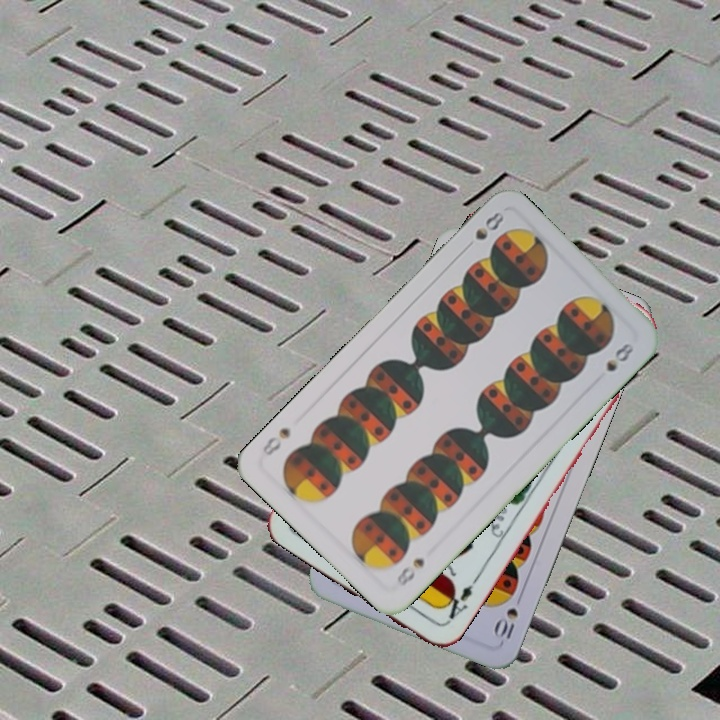EA: (438, 574, 480, 627)
S10: (490, 589, 526, 645)
S8: (459, 207, 507, 254), (393, 553, 428, 589)
